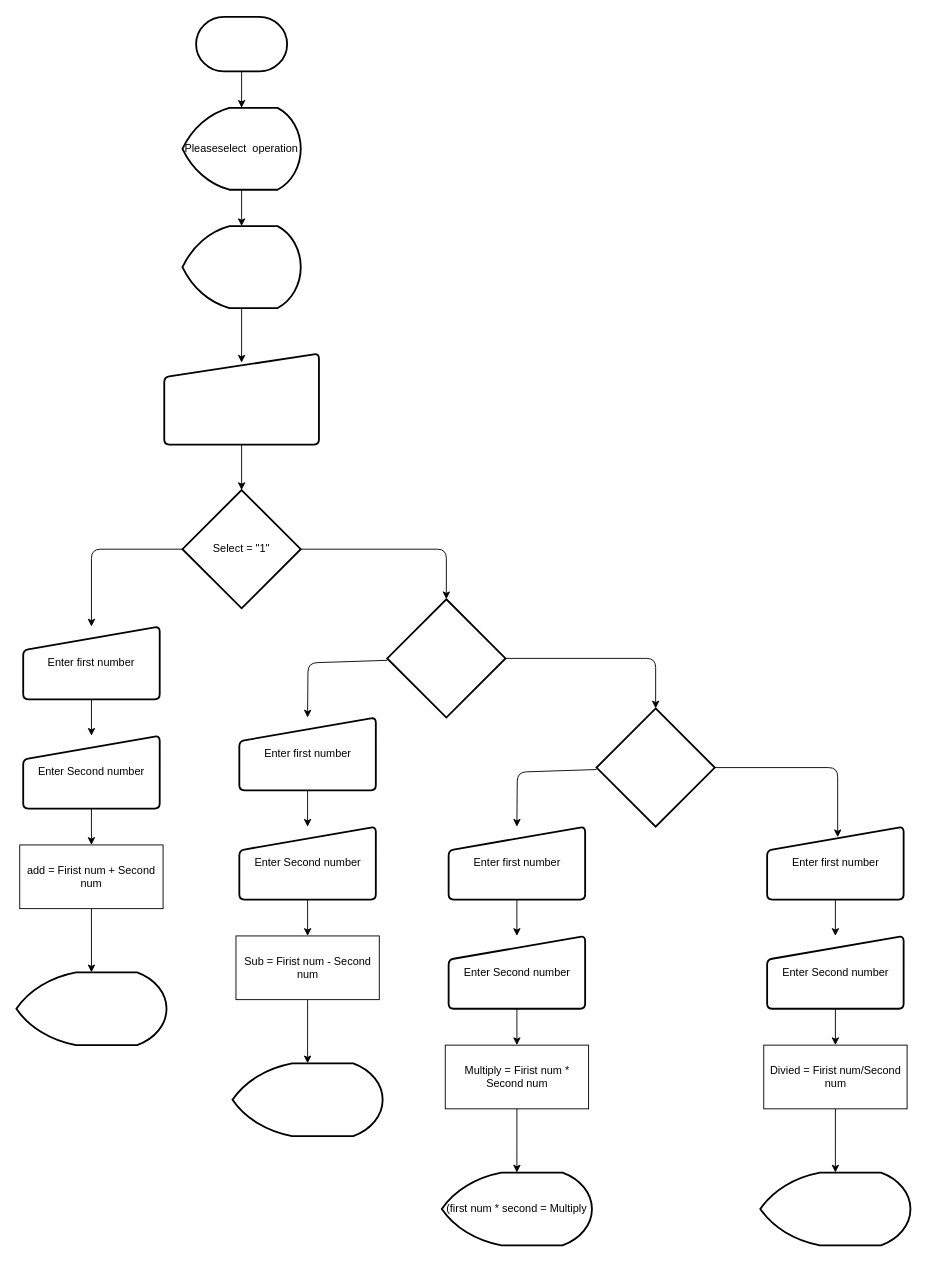
Some shapes in this 927 by 1261 pixel diagram are drawn without their labels. The centre of each missing label's shape, as x and y in pixels:
(first num + second = add: point (91, 1008)
(first num - second = Sub: point (307, 1099)
(first num / second = Divied: point (835, 1208)
1.Add 2.Subtract 3.Multiply 4.Divide: point (241, 266)
Select = "2": point (446, 658)
Select = "3": point (655, 767)
Select operations form 1,2,3,4: point (241, 398)
Start: point (241, 43)
